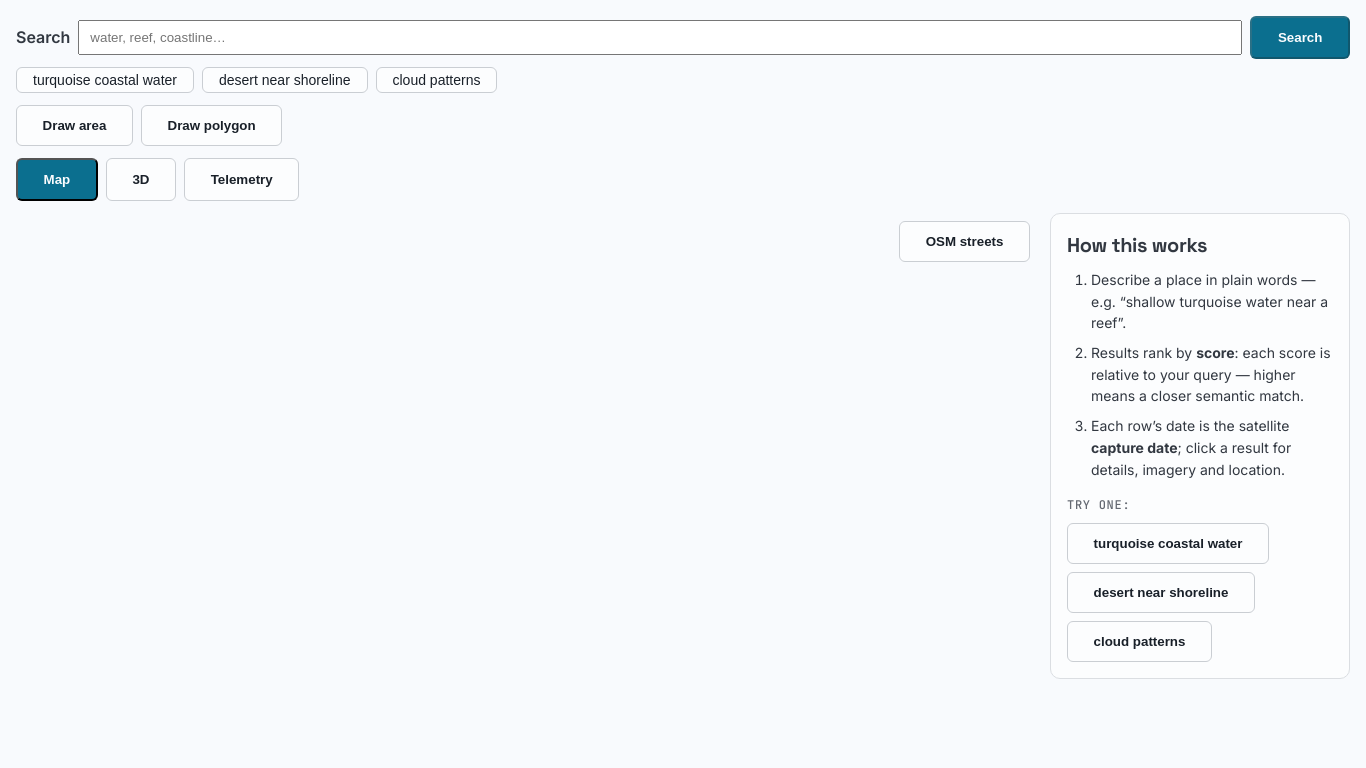
Test: empty state › puts the clicked suggestion into the search input
Type "water" into the search field labelled "Search" at (660,38), box 78,20 -> 1242,55
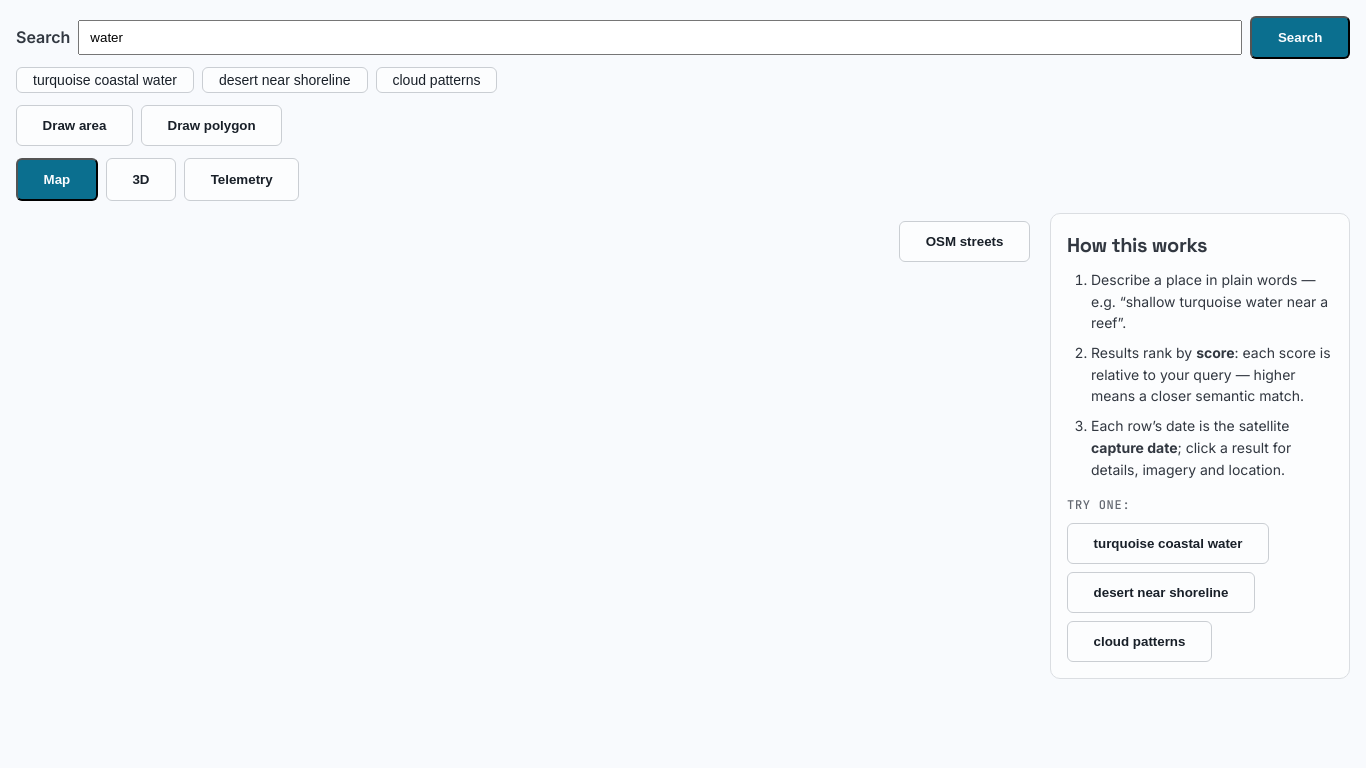
Click the button "Search" at (1300,38), box 1250,16 -> 1350,59
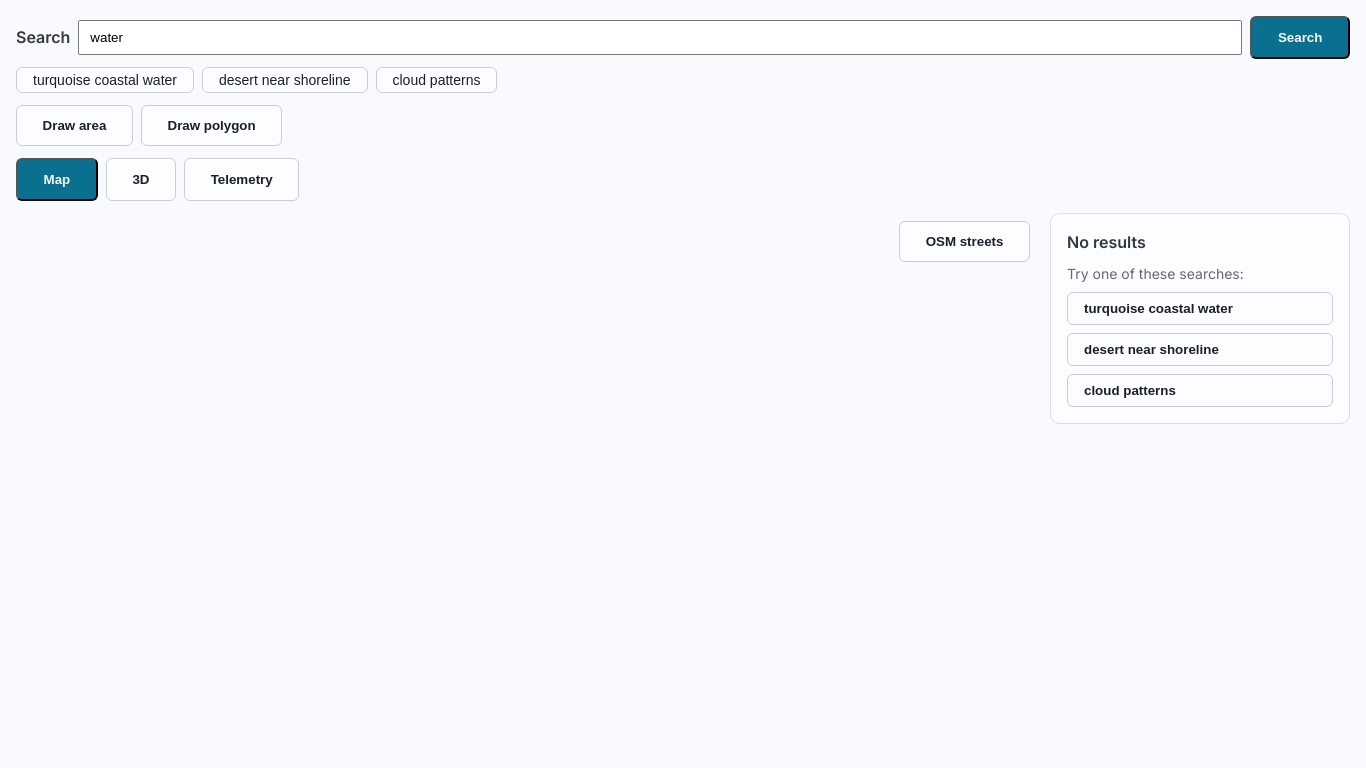
Click the button "turquoise coastal water" below "Try one of these searches:" at (1200,309), box 1067,292 -> 1333,326
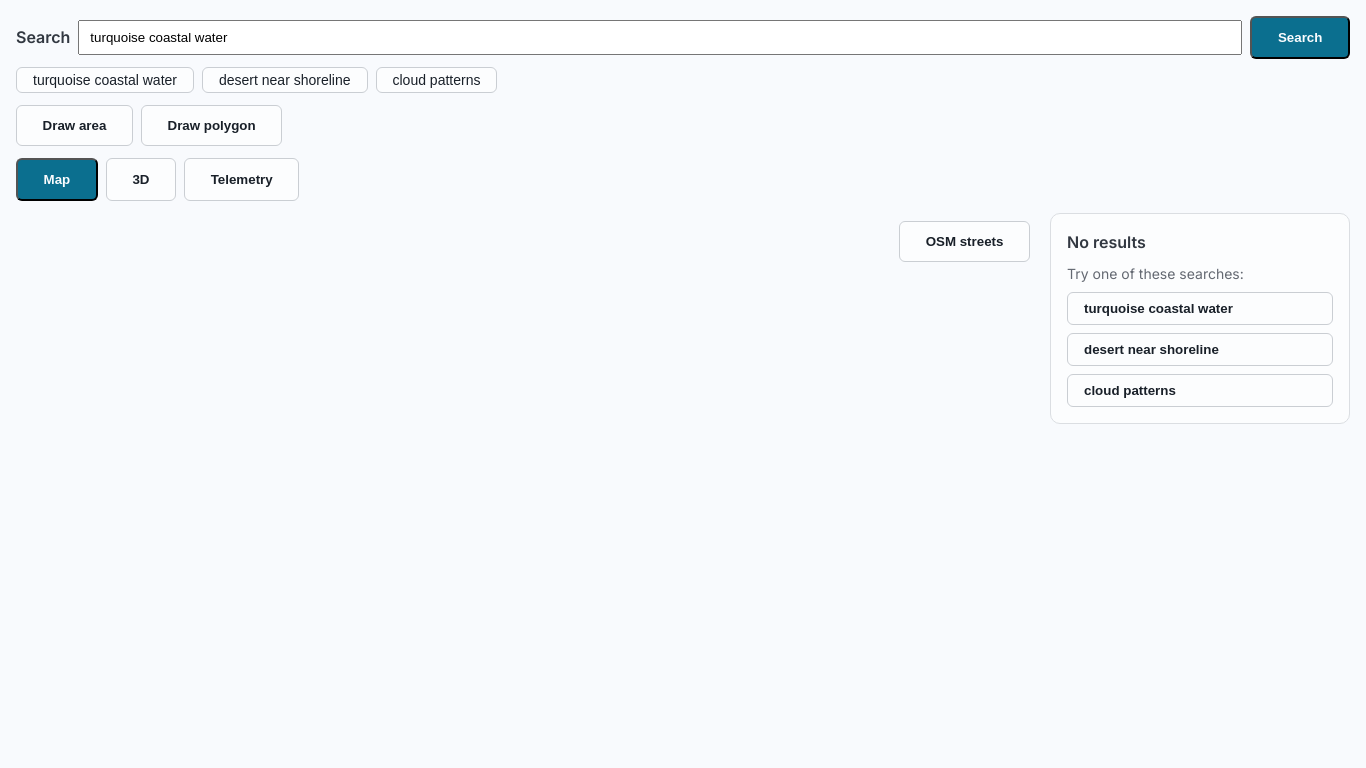
Now the search field labelled "Search" holds "turquoise coastal water", box 78,20 -> 1242,55
